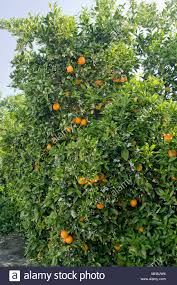orange: (52, 102, 61, 113)
